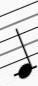LC: (8, 8, 37, 79)
